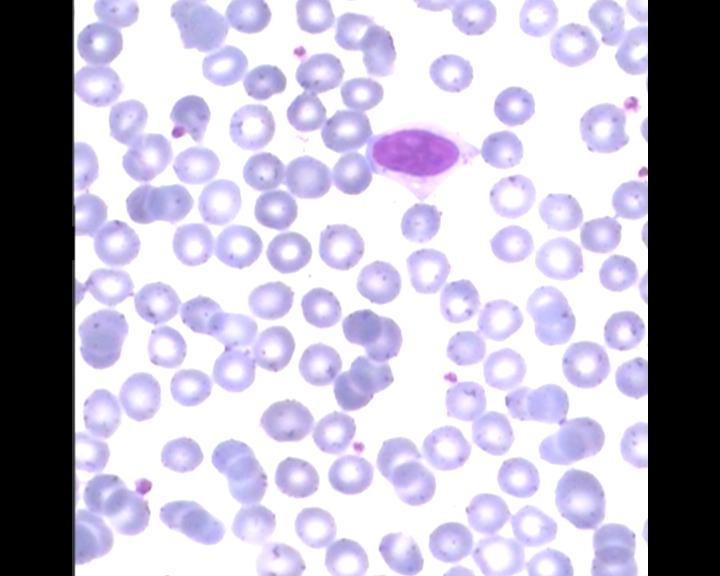mono: (368, 120, 482, 204)
